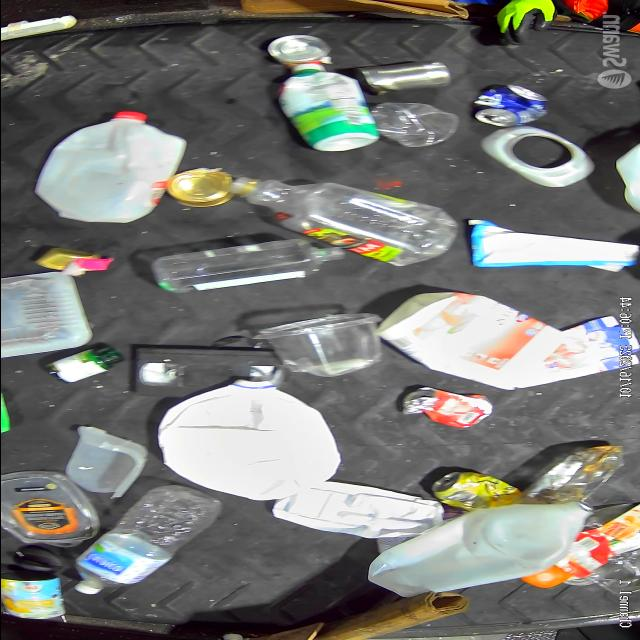can: (402, 386, 490, 426), (427, 471, 515, 506), (478, 86, 554, 126), (354, 62, 455, 90), (171, 168, 229, 206), (260, 34, 330, 60)
milk_jug: (171, 373, 341, 502), (28, 105, 194, 225), (383, 494, 590, 590)
non_white_jug: (380, 292, 560, 380)
plastic_bottle: (229, 172, 451, 260), (81, 488, 216, 593), (165, 244, 347, 288)
